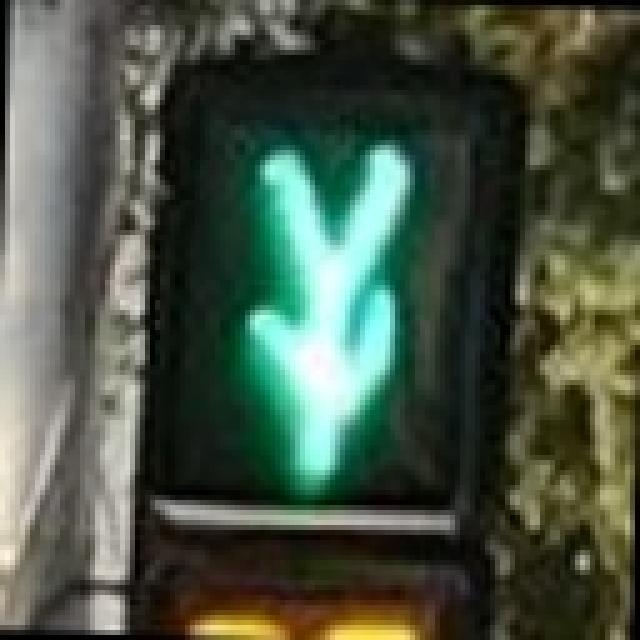geen-crossing: (145, 95, 480, 530)
